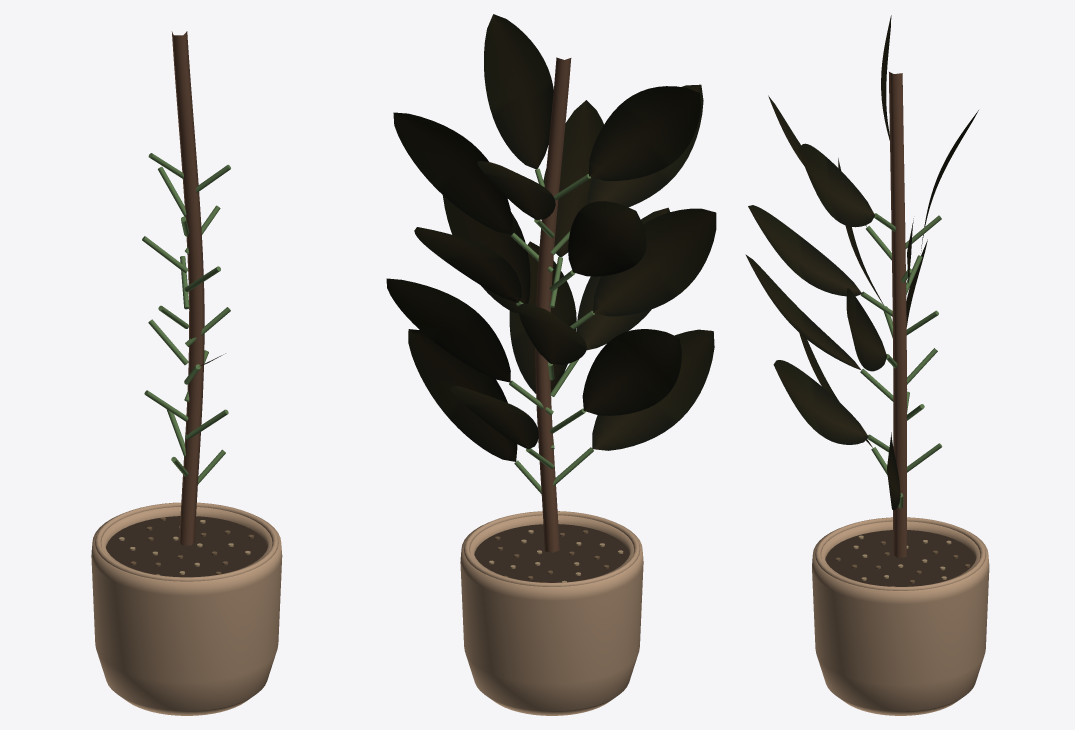
Rendered from officeRubberPlant.glb.
3 views of the same model, side by side, from view 1: azimuth 30°, elevation 25°; view 2: azimuth 150°, elevation 25°; view 3: azimuth 270°, elevation 25° (orthographic). The views are drawn at different scales.
Bounding box in the file's own units: 0.7632 × 1.6 × 0.7461.
